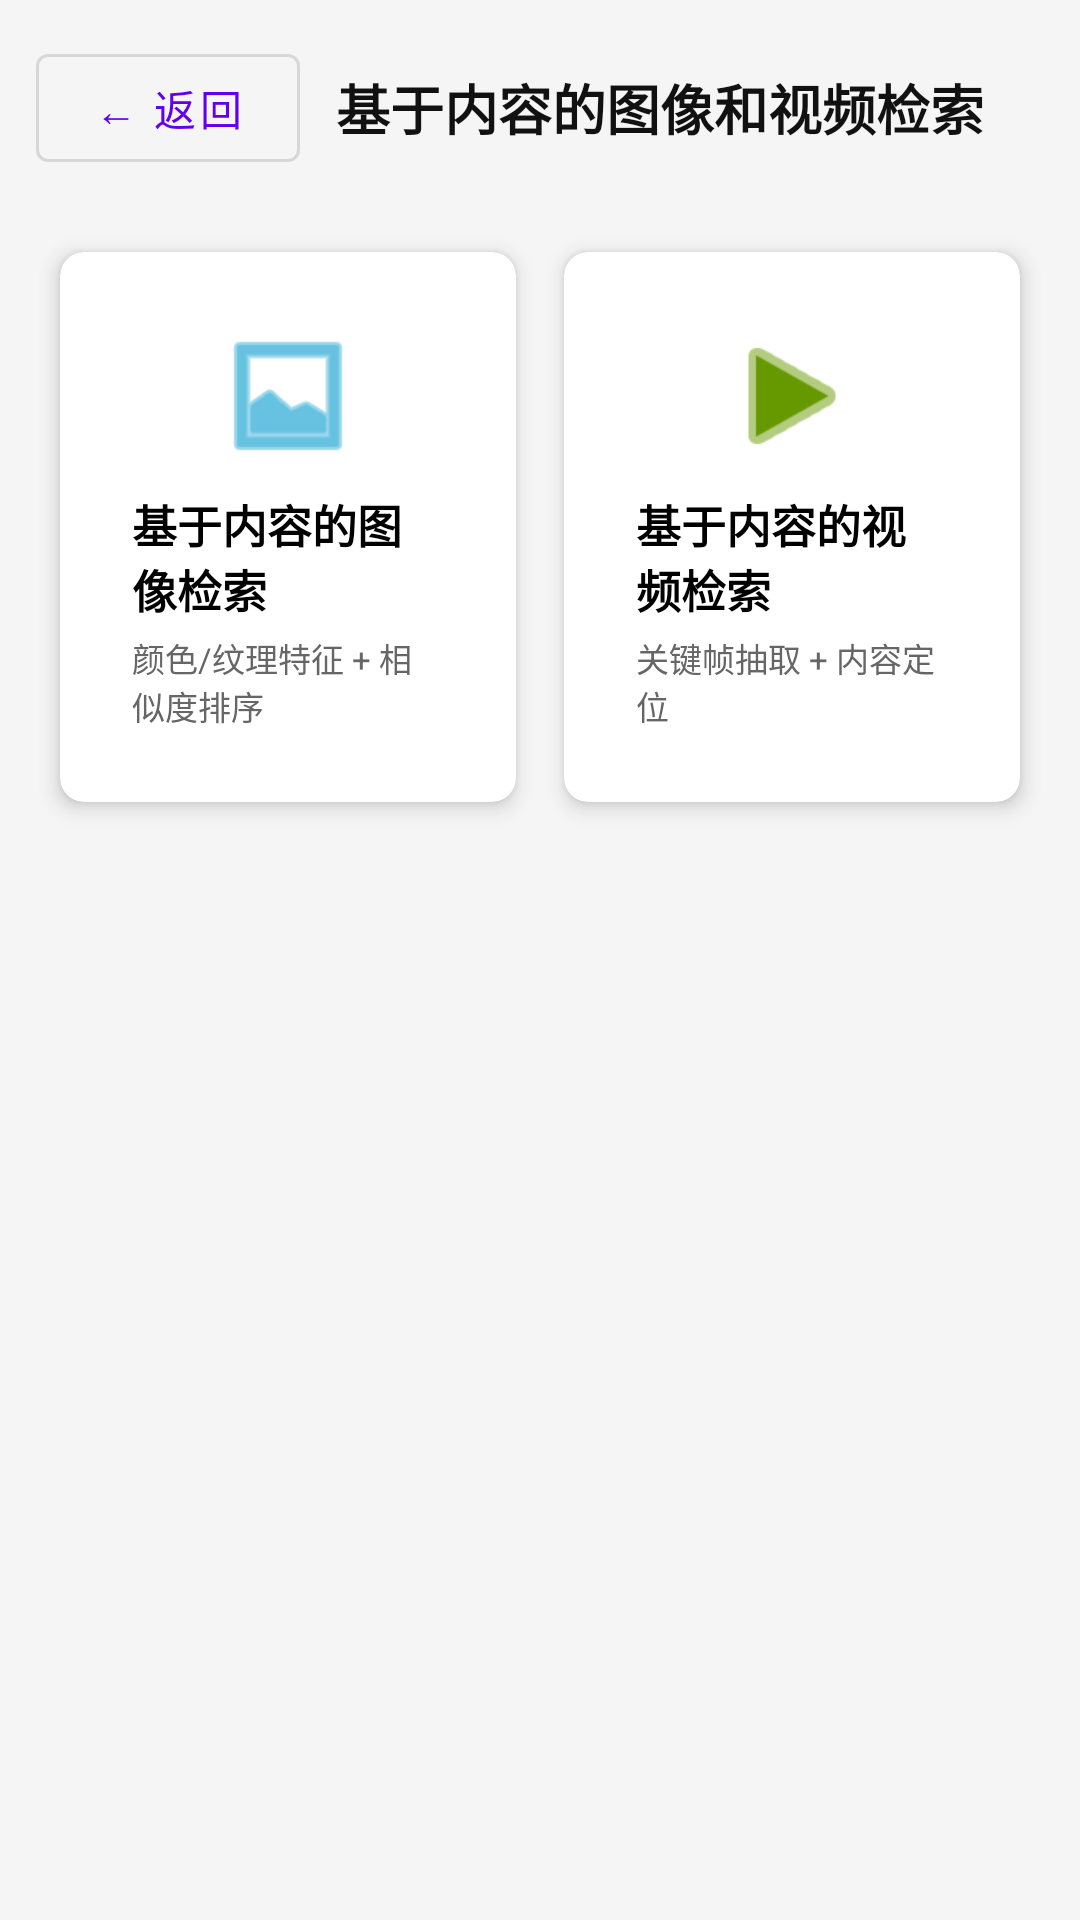

Point at icon controls on the screen. Image size 1080 × 1920, points as point (x, y).
图像检索入口: point (288, 396)
视频检索入口: point (792, 396)
